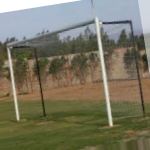goals: (6, 15, 148, 128)
